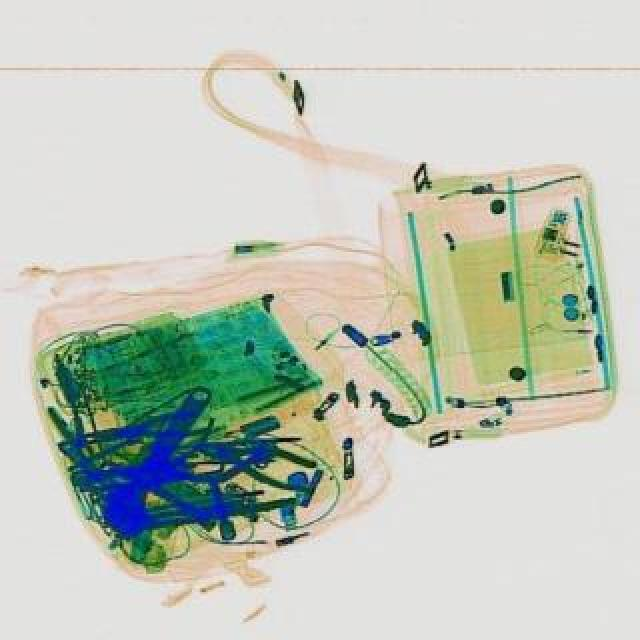scissors: (90, 372, 220, 542)
wrench: (188, 426, 324, 494), (80, 408, 212, 452)
